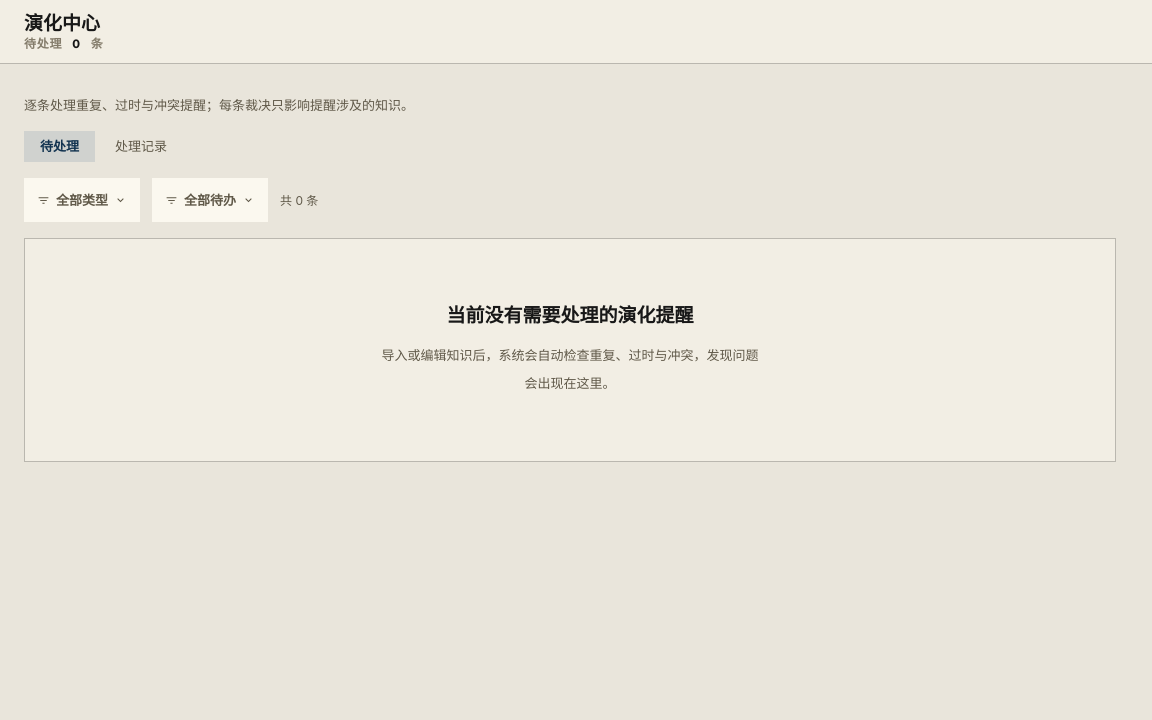
Scenario: EvolutionCenter › 区分「没有提醒」与「筛选无结果」两种空状态
This screenshot has width=1152, height=720.
Expected: the element with test id "empty-none" shows "当前没有需要处理的演化提醒", [446, 304, 694, 327]
Click the button "全部类型" at coordinates (82, 200), box [24, 178, 140, 222]
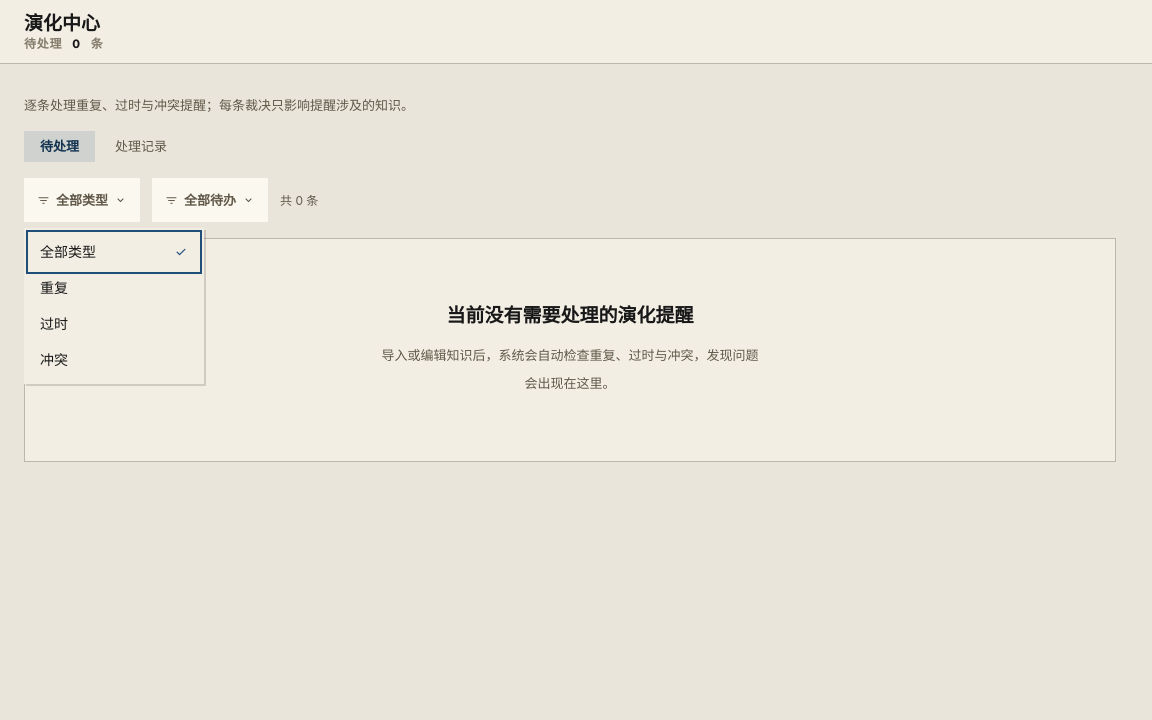
Result: the menu item "冲突" is shown
Click the menu item "冲突" at coordinates (114, 360), box [30, 342, 198, 378]
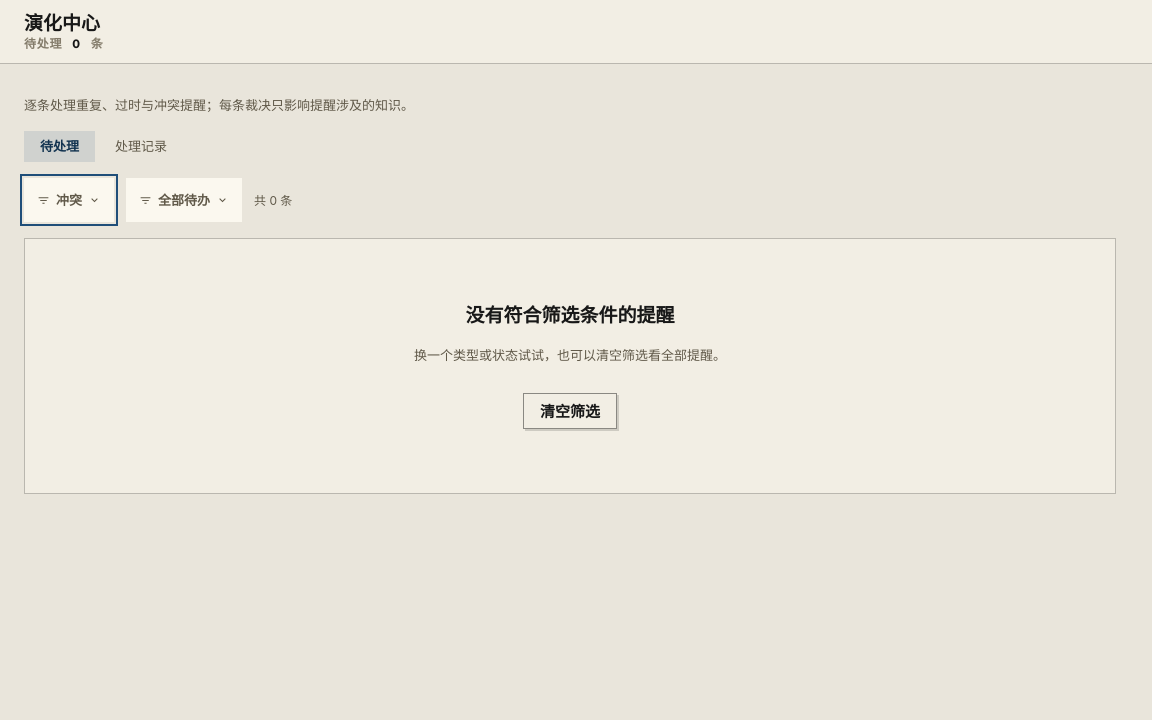
Result: the element with test id "empty-filtered" shows "没有符合筛选条件的提醒" at [466, 304, 674, 327]
